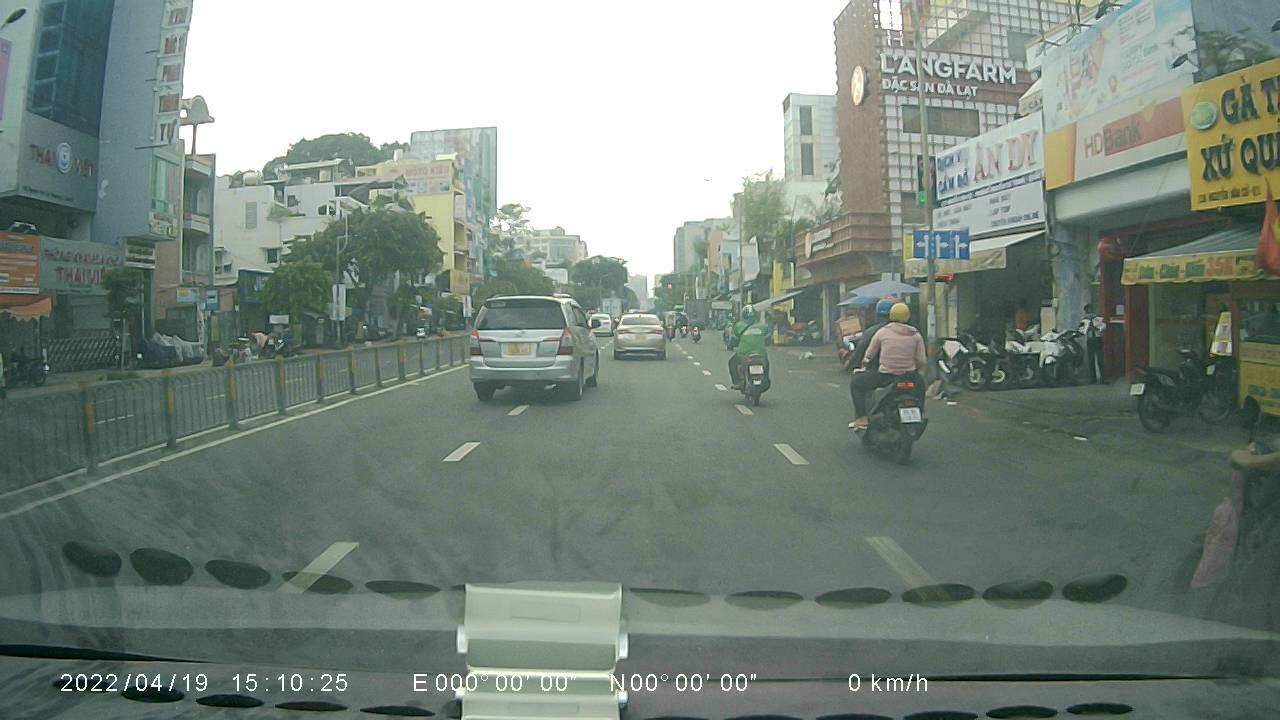Bien khac: (910, 223, 974, 262)
